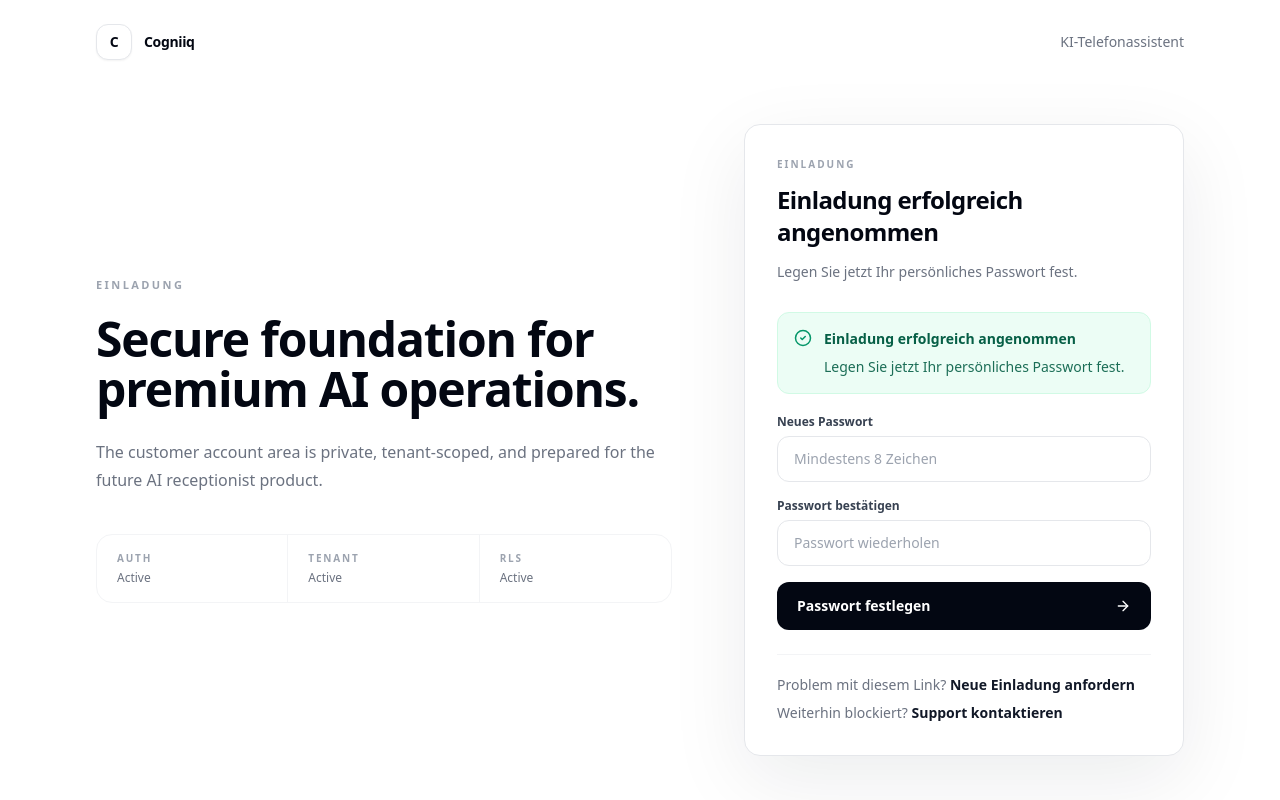
invite flow › rejects a password shorter than 8 characters without calling Supabase
In the password field labelled "Neues Passwort": (964, 459) [777,436,1151,482], type "short12"
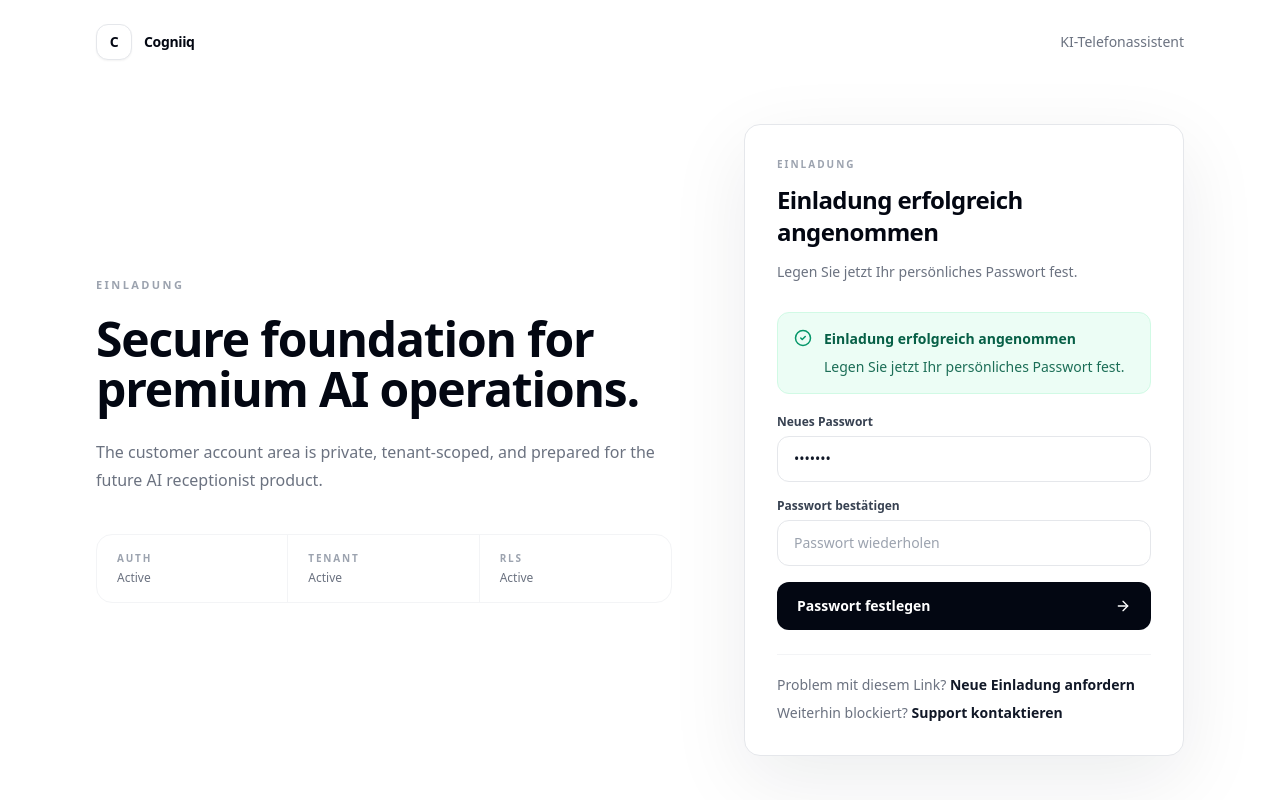
In the password field labelled "Passwort bestätigen": (964, 543) [777,520,1151,566], type "short12"
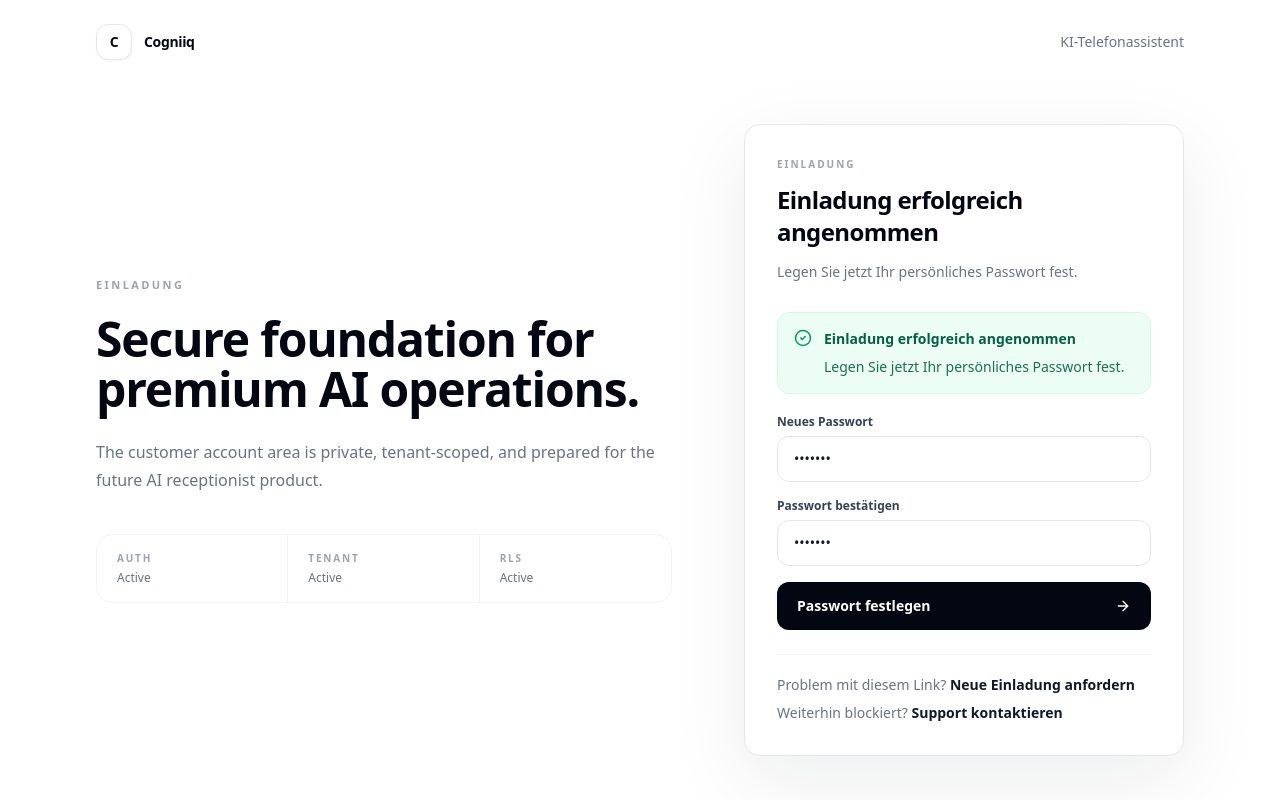
Click the button "Passwort festlegen": click(864, 606) [777,582,1151,630]
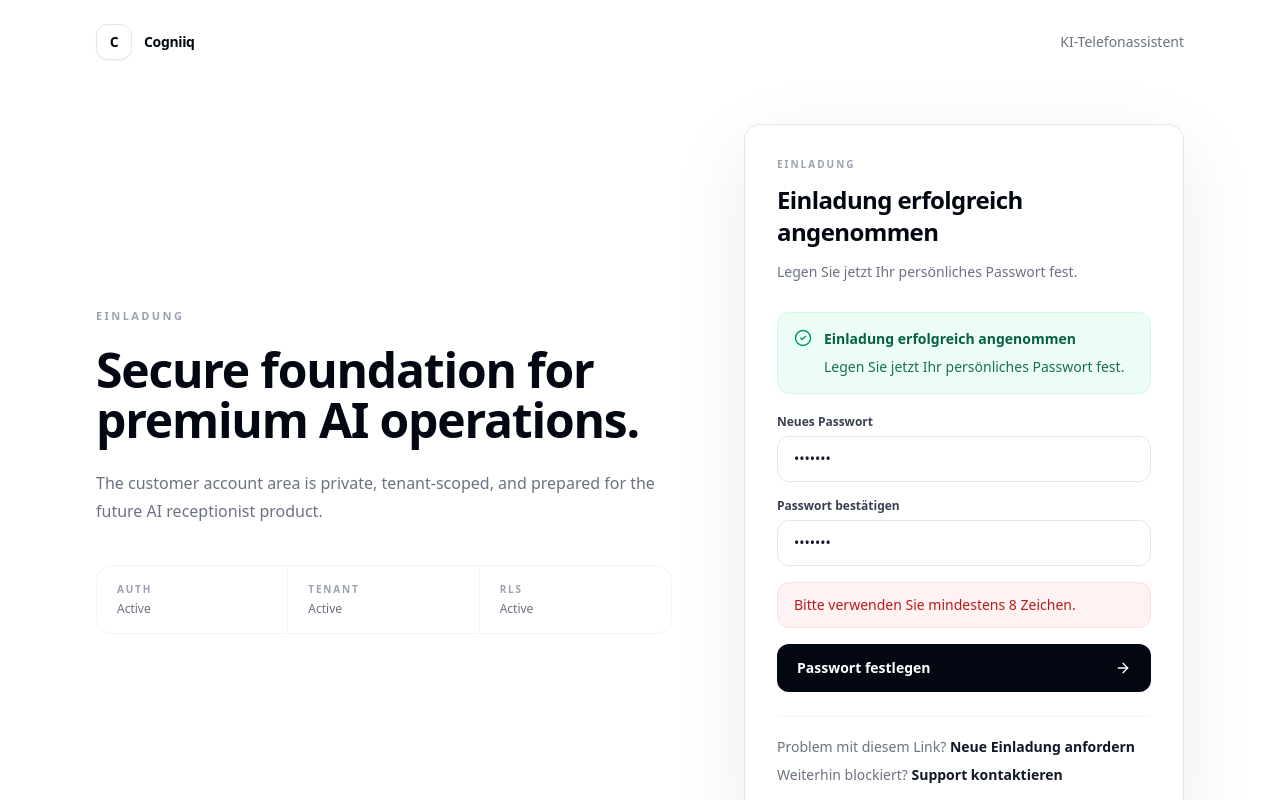
Expected: the message "Bitte verwenden Sie mindestens 8 Zeichen." is shown, [777,582,1151,628]
